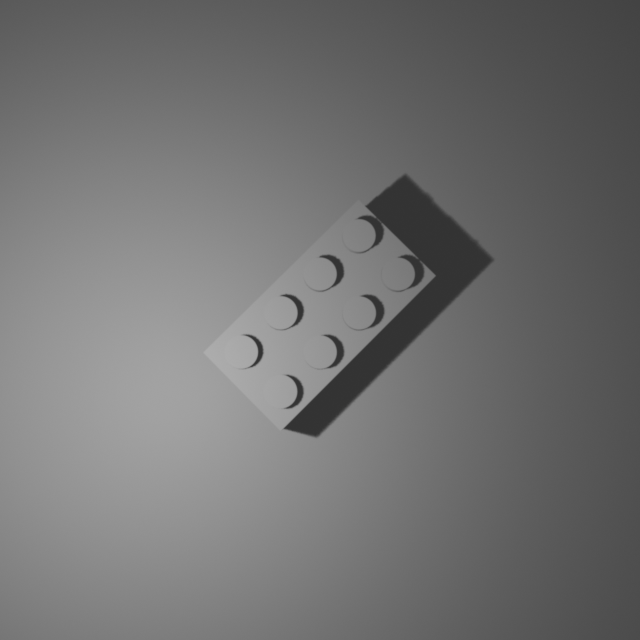lego_2x4: (202, 197, 437, 431)
